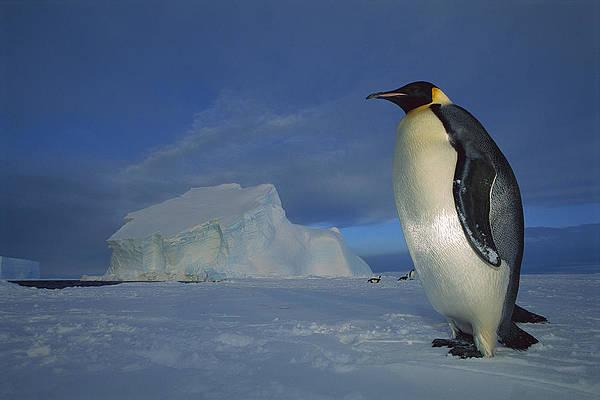emporer: (343, 70, 563, 360)
